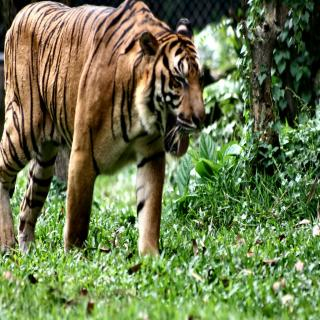Tiger: (0, 0, 206, 261)
